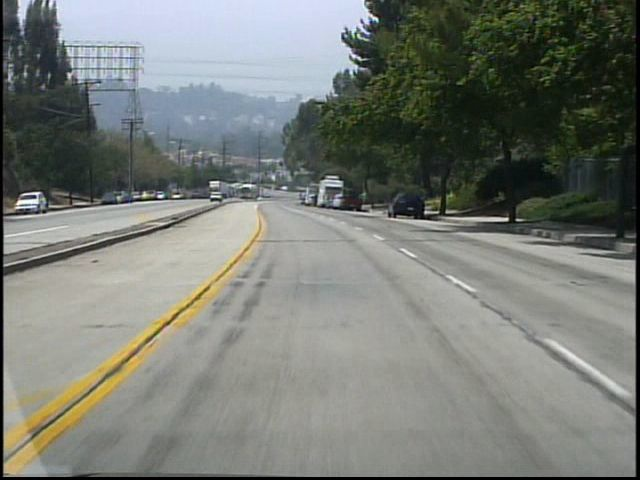person: (359, 184, 369, 206)
